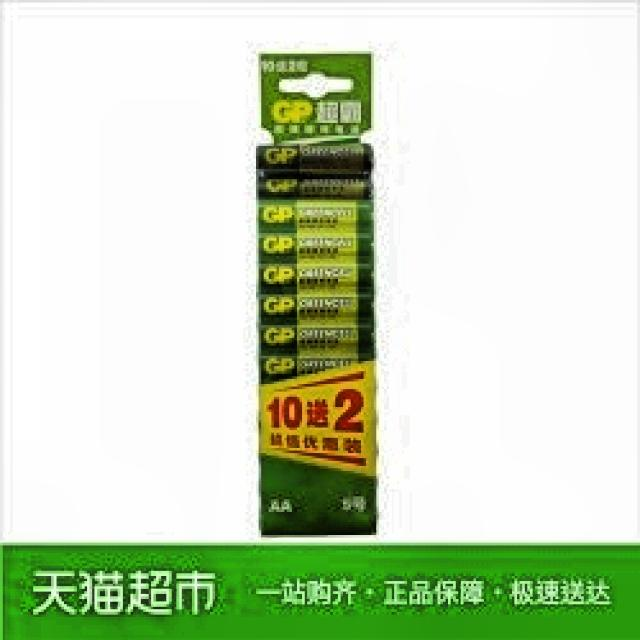Non-Valuable Waste - Batteries: (256, 139, 376, 534)
